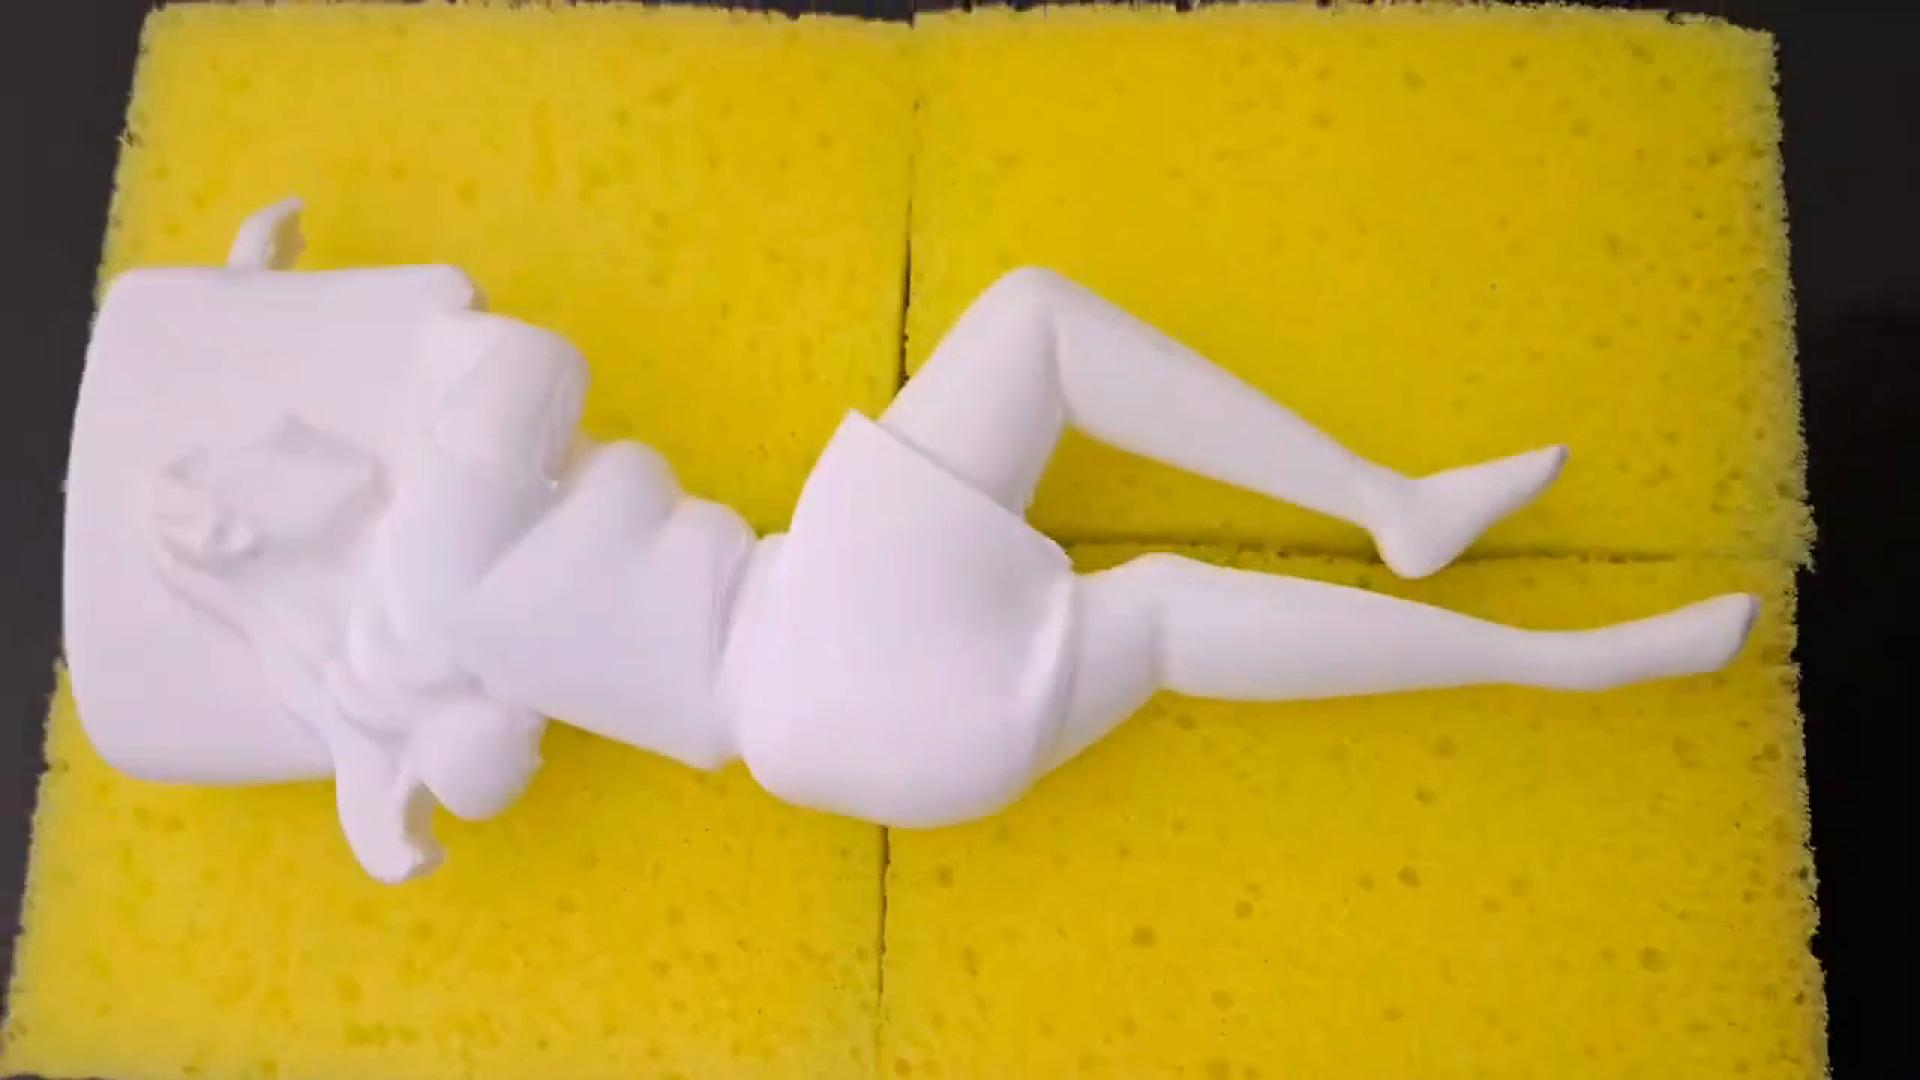Good-style: (55, 194, 1763, 901)
